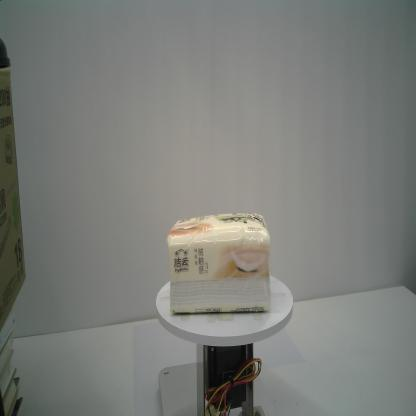Tissue: (167, 212, 272, 314)
